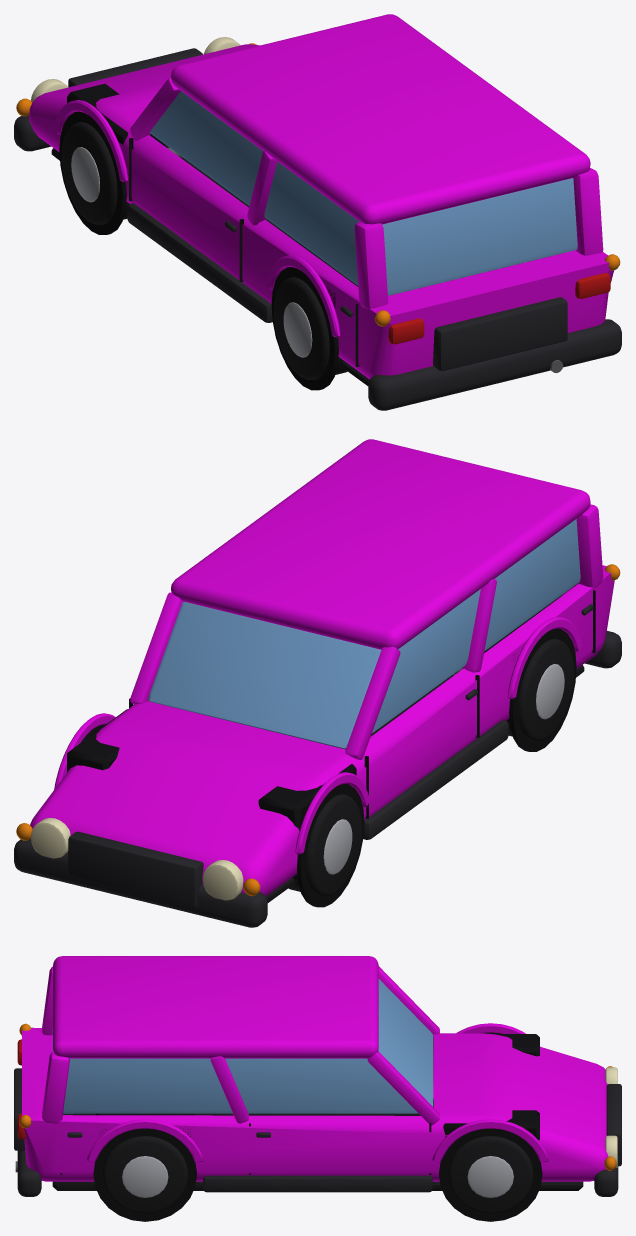
Rendered from HearthWagon_Player.fbx.
3 views of the same model, one above another, from view 1: azimuth 30°, elevation 25°; view 2: azimuth 150°, elevation 25°; view 3: azimuth 270°, elevation 25° (orthographic). The views are drawn at different scales.
Parts seen in each view (by area): view 1: HearthWagon_Player; view 2: HearthWagon_Player; view 3: HearthWagon_Player.
Boxes of the visible parts, <box> form: HearthWagon_Player: <box>14,14,621,410</box>; HearthWagon_Player: <box>14,439,621,927</box>; HearthWagon_Player: <box>14,956,621,1221</box>.
Bounding box in the file's own units: 1.94 × 1.57 × 4.93.
